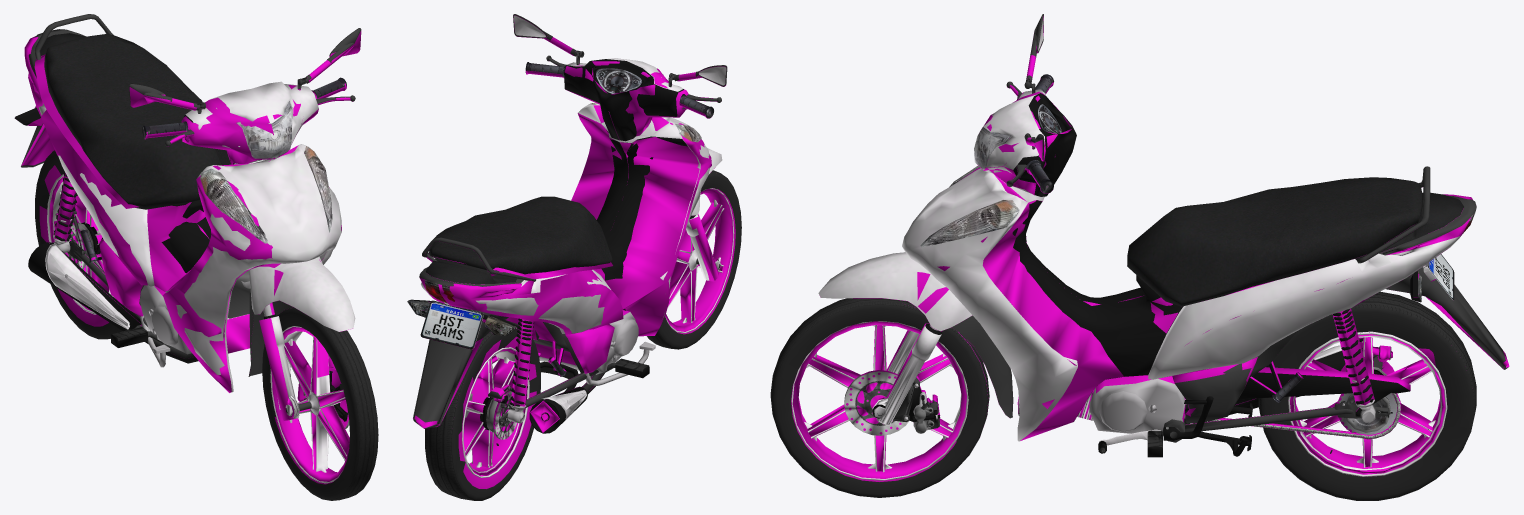
The model's file is HandoTwix.fbx.
3 views of the same model, side by side, from view 1: azimuth 30°, elevation 25°; view 2: azimuth 150°, elevation 25°; view 3: azimuth 270°, elevation 25° (orthographic). The views are drawn at different scales.
Parts seen in each view (by area): view 1: bodyMesh, bodyMeshShadow, handleMesh, frontWheelMesh, frontWheelShadow, handleShadow, frontWheelMesh.001, rearWheelMesh, rearWheelShadow, dirtGuardShadow, swingArmMesh, dirtGuardMesh (+3 smaller); view 2: bodyMesh, bodyMeshShadow, handleMesh, rearWheelMesh, rearWheelShadow, frontWheelShadow, tailSection, frontWheelMesh, handleShadow, plateMesh, swingArmMesh, rearWheelMesh.001 (+6 smaller); view 3: bodyMesh, rearWheelMesh, handleMesh, frontWheelMesh, bodyMeshShadow, frontWheelShadow, swingArmMesh, rearWheelShadow, dirtGuardMesh, swingArmShadow, rearWheelMesh.001, tailSection (+2 smaller).
Part boxes in pixels (box(x1,y1,x2,y2)): bodyMesh: box(28, 14, 341, 392); bodyMeshShadow: box(24, 36, 341, 392); handleMesh: box(129, 28, 361, 376); frontWheelMesh: box(262, 306, 378, 500); frontWheelShadow: box(270, 327, 349, 484); handleShadow: box(129, 30, 361, 359); frontWheelMesh.001: box(270, 326, 346, 483); rearWheelMesh: box(35, 150, 133, 339); rearWheelShadow: box(39, 165, 119, 326); dirtGuardShadow: box(259, 318, 335, 420); swingArmMesh: box(53, 171, 147, 326); dirtGuardMesh: box(262, 314, 306, 418); bodyMesh: box(419, 103, 709, 433); bodyMeshShadow: box(420, 105, 711, 432); handleMesh: box(513, 14, 727, 215); rearWheelMesh: box(425, 320, 540, 500); rearWheelShadow: box(458, 336, 536, 488); frontWheelShadow: box(665, 188, 735, 334); tailSection: box(413, 310, 508, 428); frontWheelMesh: box(647, 170, 741, 349); handleShadow: box(513, 15, 725, 215); plateMesh: box(420, 300, 483, 349); swingArmMesh: box(488, 318, 598, 426); rearWheelMesh.001: box(462, 347, 529, 477); bodyMesh: box(902, 166, 1476, 457); rearWheelMesh: box(1258, 291, 1476, 500); handleMesh: box(818, 14, 1076, 418); frontWheelMesh: box(770, 298, 989, 497); bodyMeshShadow: box(937, 167, 1472, 440); frontWheelShadow: box(791, 321, 988, 481); swingArmMesh: box(1184, 309, 1409, 439); rearWheelShadow: box(1288, 332, 1445, 474); dirtGuardMesh: box(872, 324, 942, 433); swingArmShadow: box(1184, 308, 1410, 439); rearWheelMesh.001: box(1288, 331, 1447, 476); tailSection: box(1386, 267, 1508, 369).
Bounding box in the file's own units: 0.7514 × 1.18 × 1.89.
